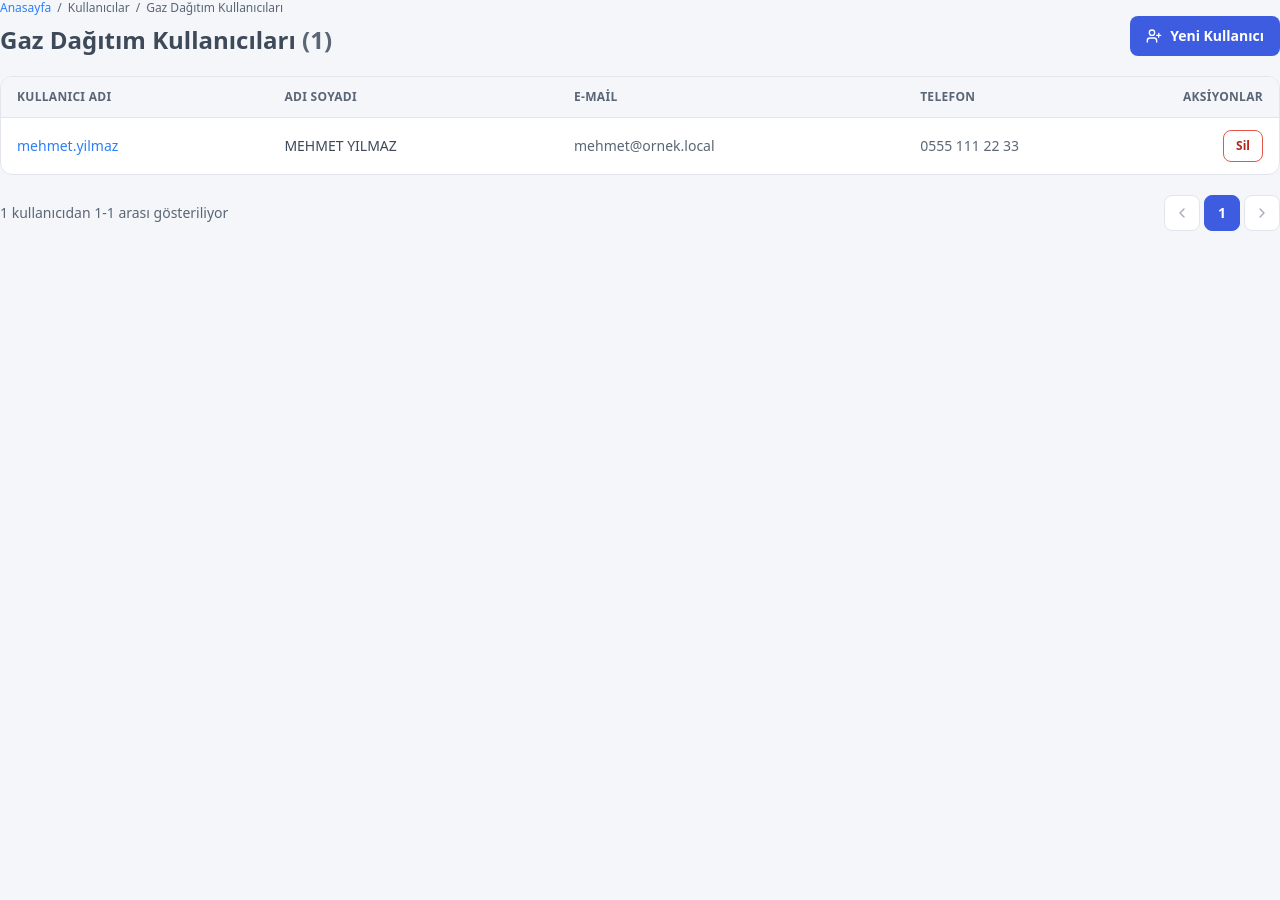
kullanıcı silme › onaylanınca ucun olmadığını söyler ve satır listede kalır
Click the button "Sil". click: (1243, 146)
box: [1223,130,1263,162]
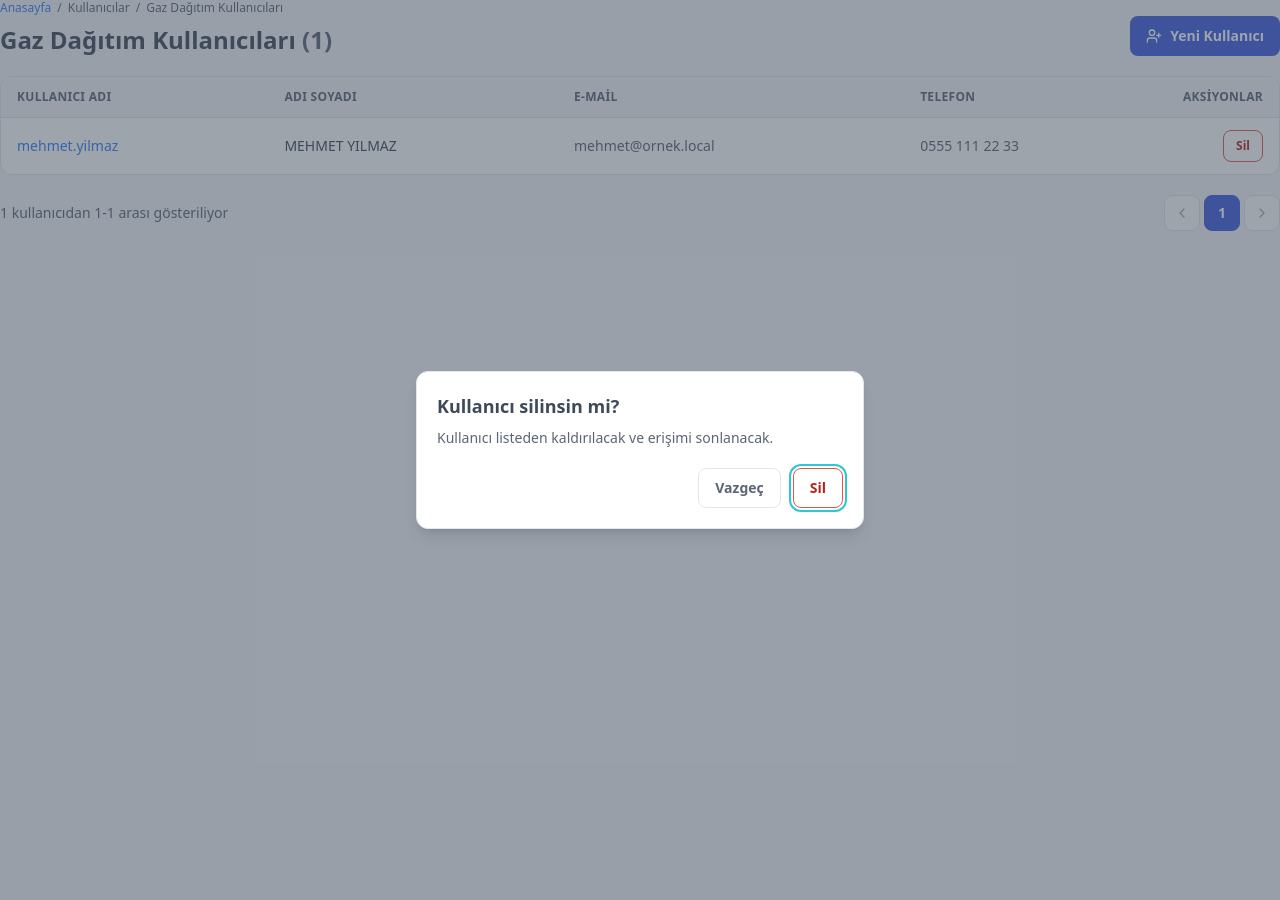
Click the button "Sil". click: (818, 488)
box: [793,468,843,508]
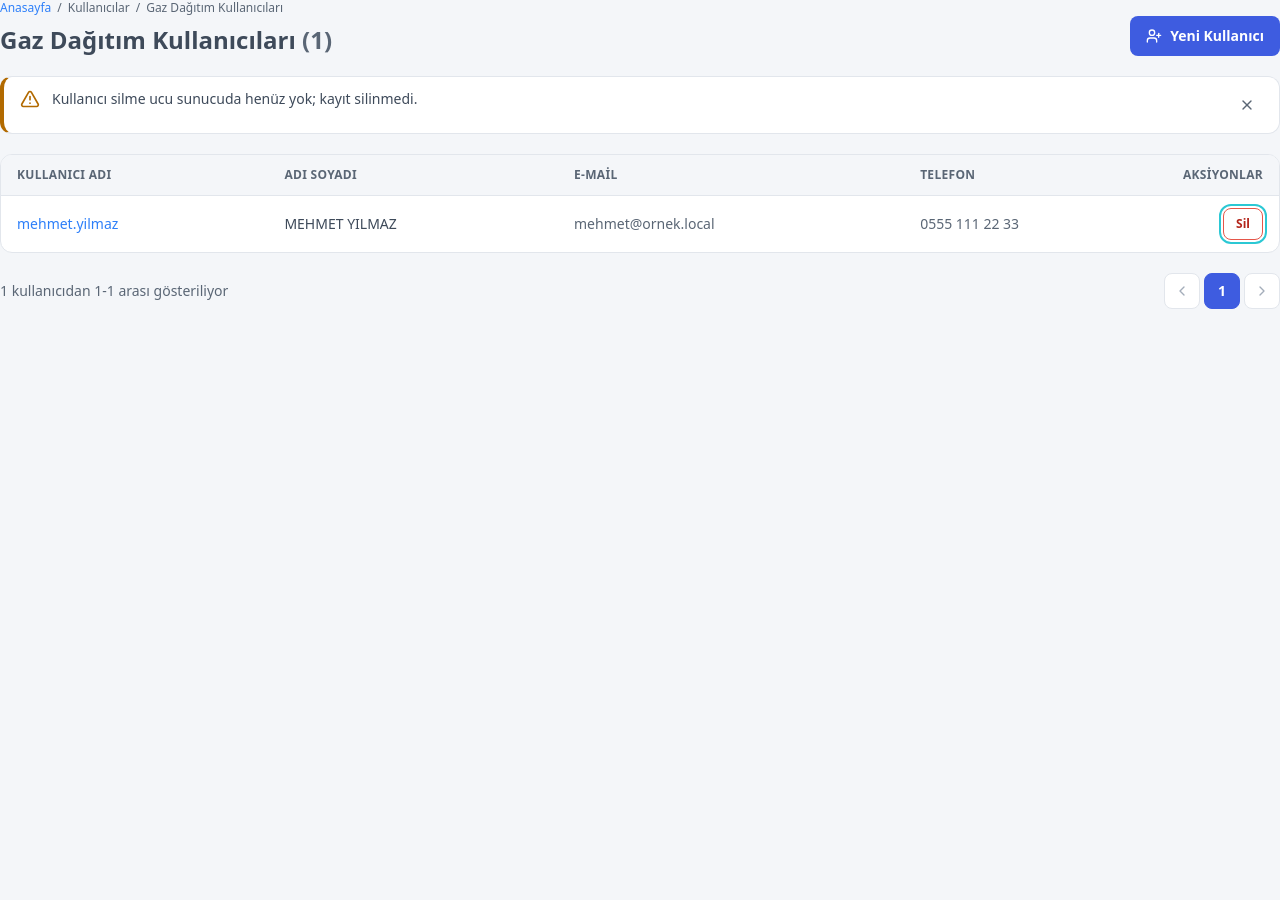
Expected: the link "mehmet.yilmaz" is shown, [17,214,118,233]
Expected: the text "Kullanıcı silme ucu sunucuda henüz yok; kayıt silinmedi." is shown, [52,89,418,108]
